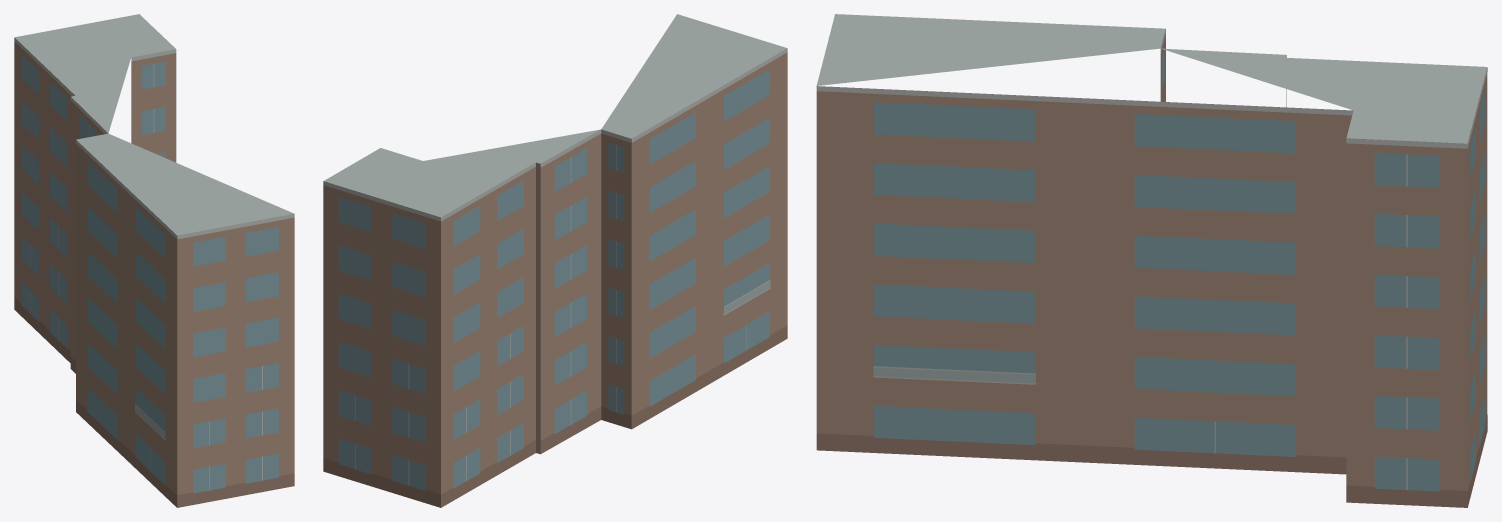
File: survey-upis-32574086.glb
The picture shows the model from 3 angles, left to right: view 1: azimuth 30°, elevation 25°; view 2: azimuth 150°, elevation 25°; view 3: azimuth 270°, elevation 25°; orthographic projection. The views are drawn at different scales.
Visible parts, largest first — view 1: survey-upis-32574086.tmp; view 2: survey-upis-32574086.tmp; view 3: survey-upis-32574086.tmp.
Boxes of the visible parts, x1,y1,x2,y2 form: survey-upis-32574086.tmp: (14, 14, 294, 507); survey-upis-32574086.tmp: (323, 14, 787, 507); survey-upis-32574086.tmp: (816, 14, 1487, 507).
Bounding box in the file's own units: 13.21 × 17.3 × 28.89.
